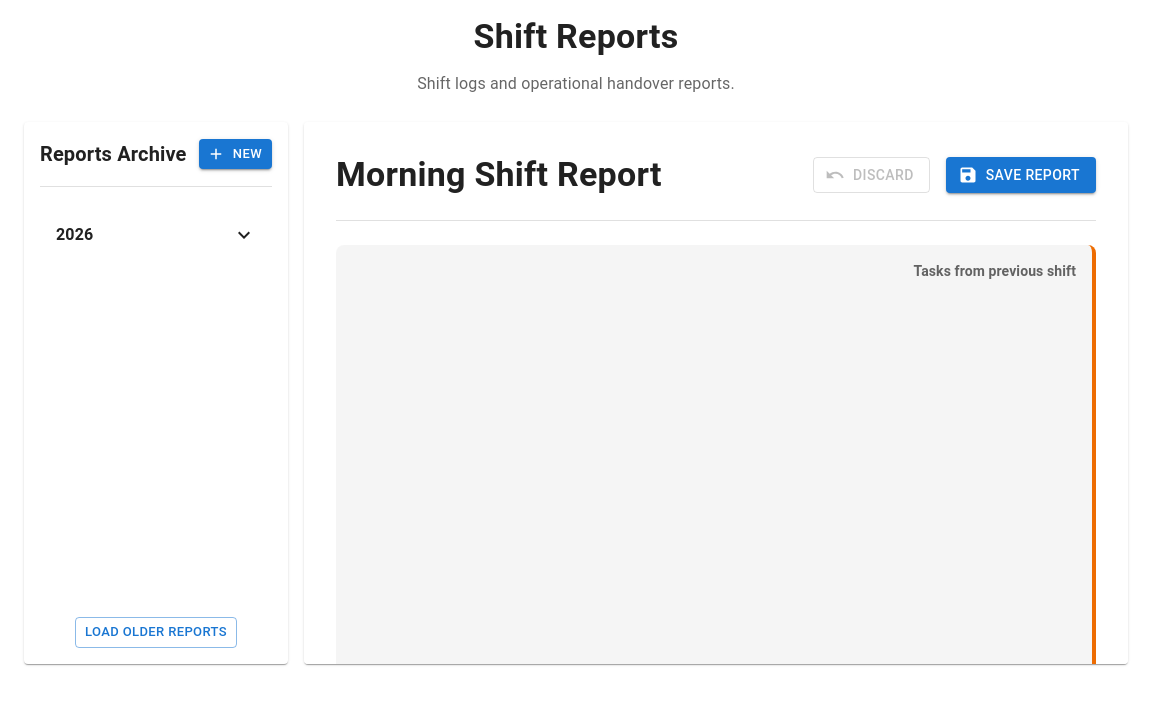
ShiftReportPage - Background Polling State Shielding › cursor pagination › requests the next page with the server's cursor and appends it to the archive
Click the button "Load older reports" at (156, 632), box [75, 617, 237, 648]
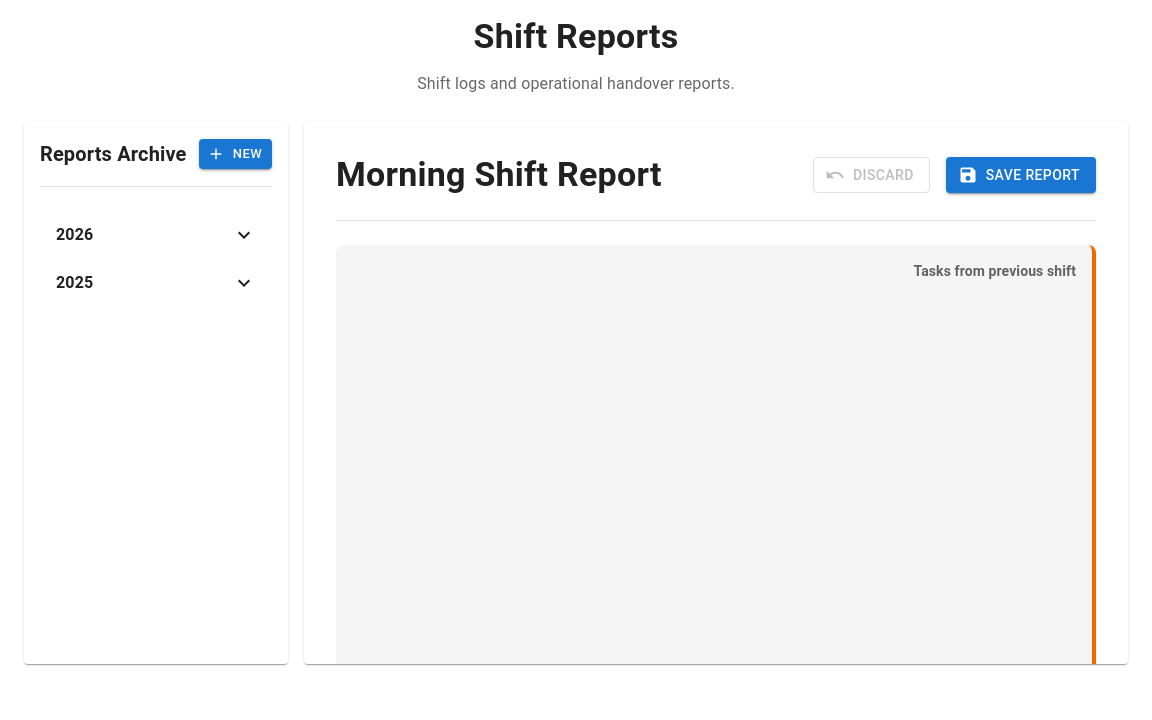
Expected: the text "2026" is shown, [56, 225, 93, 244]
Result: the text "2025" is shown at [56, 273, 93, 292]
Result: the button "Load older reports" is gone
